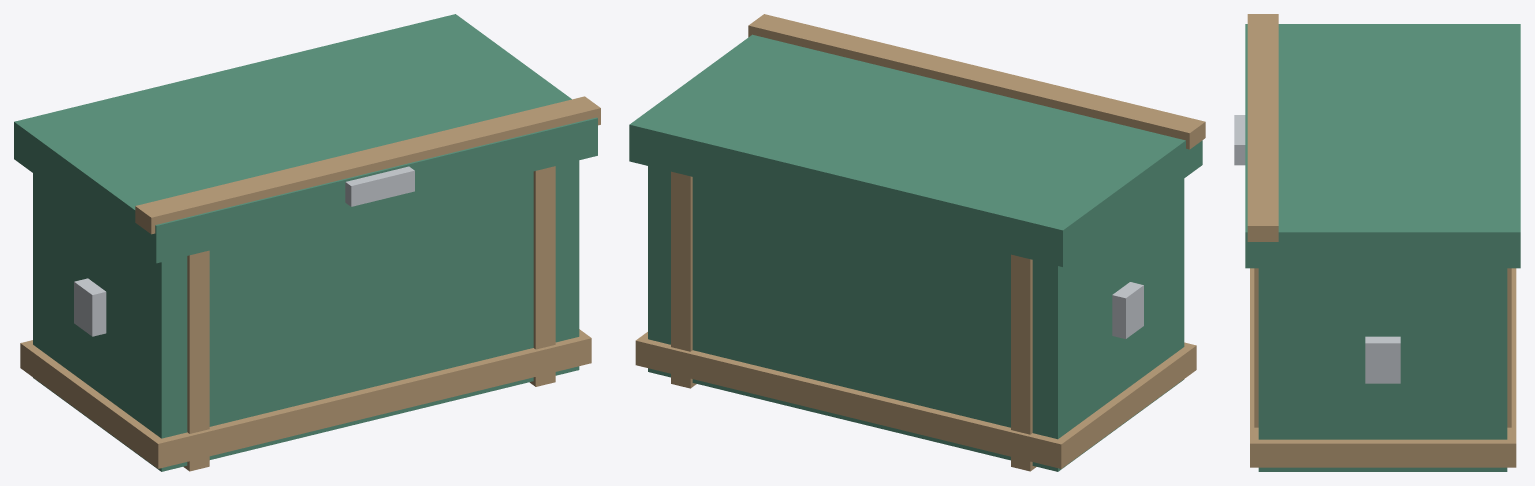
The model's file is racecourse-and-parade-ring-tack-trunk-204cb06b__38619.glb.
3 views of the same model, side by side, from view 1: azimuth 30°, elevation 25°; view 2: azimuth 150°, elevation 25°; view 3: azimuth 270°, elevation 25° (orthographic). The views are drawn at different scales.
Visible parts, largest first — view 1: tack-trunk, lid/green, lid/timber, lid/steel; view 2: tack-trunk, lid/green, lid/timber; view 3: lid/green, tack-trunk, lid/timber, lid/steel.
Boxes of the visible parts, box(x1,y1,x2,y2) form: tack-trunk: box(20, 160, 591, 471); lid/green: box(14, 14, 597, 263); lid/timber: box(135, 96, 600, 234); lid/steel: box(345, 166, 414, 206); tack-trunk: box(635, 166, 1196, 471); lid/green: box(629, 34, 1202, 266); lid/timber: box(748, 14, 1205, 149); lid/green: box(1245, 24, 1520, 268); tack-trunk: box(1250, 268, 1516, 471); lid/timber: box(1247, 14, 1278, 241); lid/steel: box(1234, 115, 1245, 165).
Bounding box in the file's own units: 1.13 × 0.64 × 0.645.
